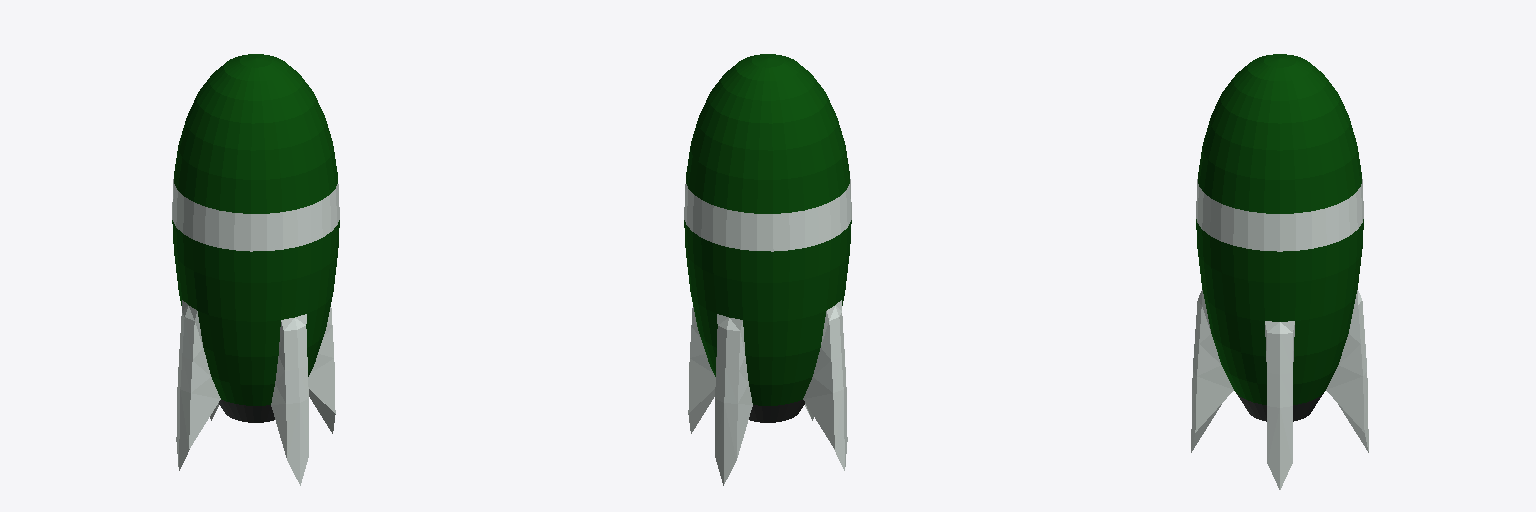
The picture shows the model from 3 angles: view 1: azimuth 30°, elevation 25°; view 2: azimuth 150°, elevation 25°; view 3: azimuth 270°, elevation 25°; orthographic projection.
Parts seen in each view (by area): view 1: 球; view 2: 球; view 3: 球.
Boxes of the visible parts, <box> form: 球: <box>172,54,339,485</box>; 球: <box>684,54,851,485</box>; 球: <box>1191,54,1368,489</box>.
Bounding box in the file's own units: 4.04 × 9.9 × 4.04.
Materials: 1 (1 with a texture image).